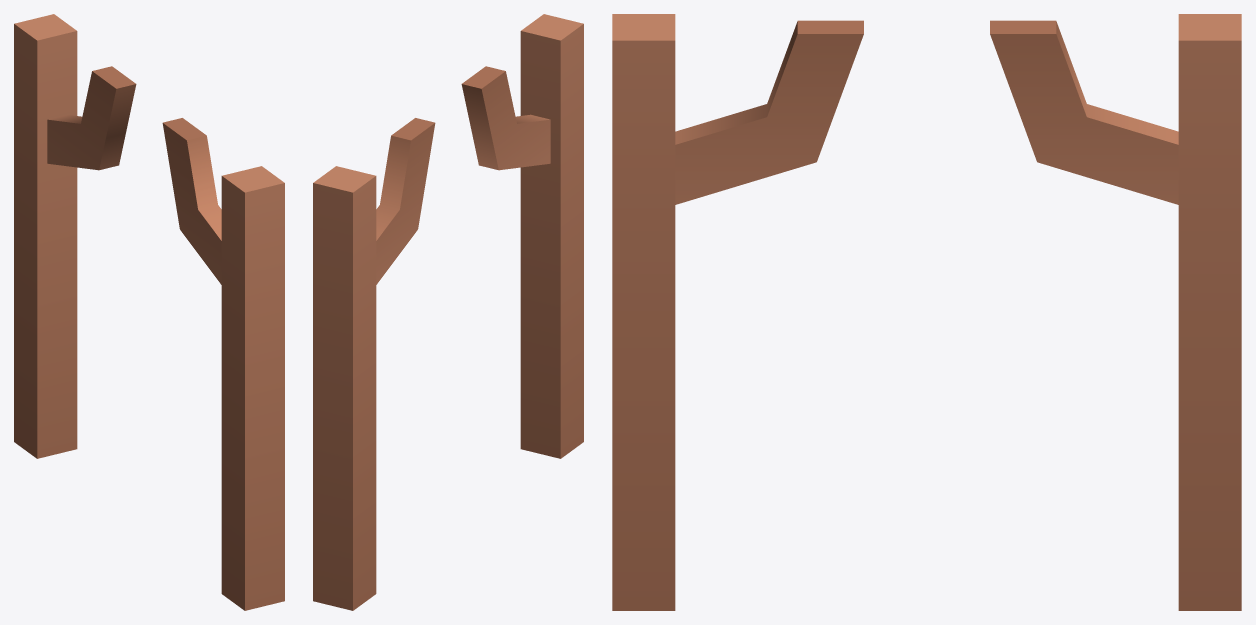
The model's file is wall-kn-balcony-wall.glb.
The picture shows the model from 3 angles, left to right: view 1: azimuth 30°, elevation 25°; view 2: azimuth 150°, elevation 25°; view 3: azimuth 270°, elevation 25°; orthographic projection. The views are drawn at different scales.
Parts seen in each view (by area): view 1: balcony-wall; view 2: balcony-wall; view 3: balcony-wall.
Boxes of the visible parts, bbox=[...] form: balcony-wall: bbox=[14, 14, 284, 610]; balcony-wall: bbox=[313, 14, 583, 610]; balcony-wall: bbox=[612, 14, 1241, 610].
Bounding box in the file's own units: 0.3 × 3 × 3.
Materials: 1 (1 with a texture image).
